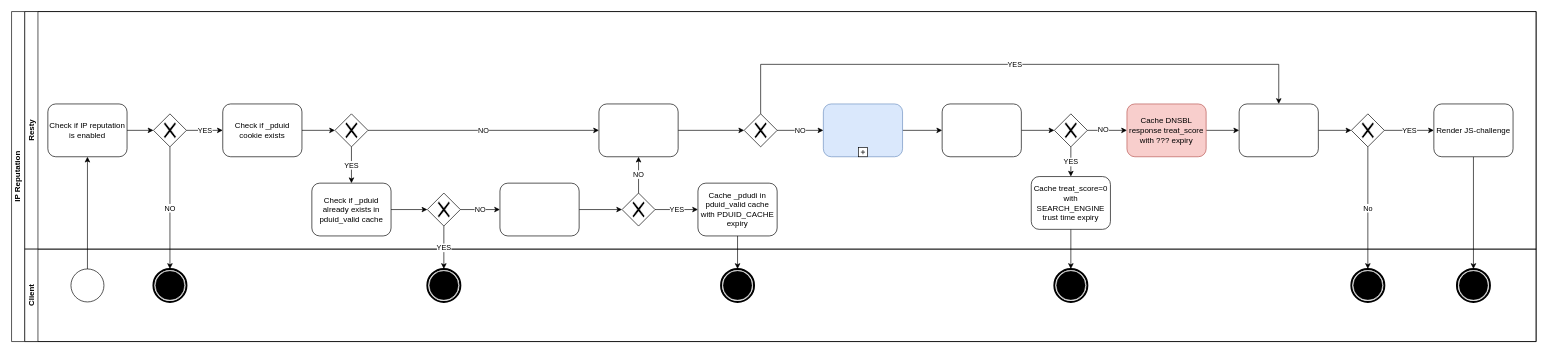
This 1548x353 diagram has some shape labels left out. Each missing label, with the centre of its shape:
"Check if _pduid cookie is valid" belongs at [539,209].
"Check if treat_score is more than zone ip_rept_treat_score" belongs at [1278,130].
"Check if visitor_type=0 (search engine)" belongs at [981,130].
"Check IP already exists in DNSBL cache" belongs at [638,130].
"DNSBL" belongs at [863,130].
